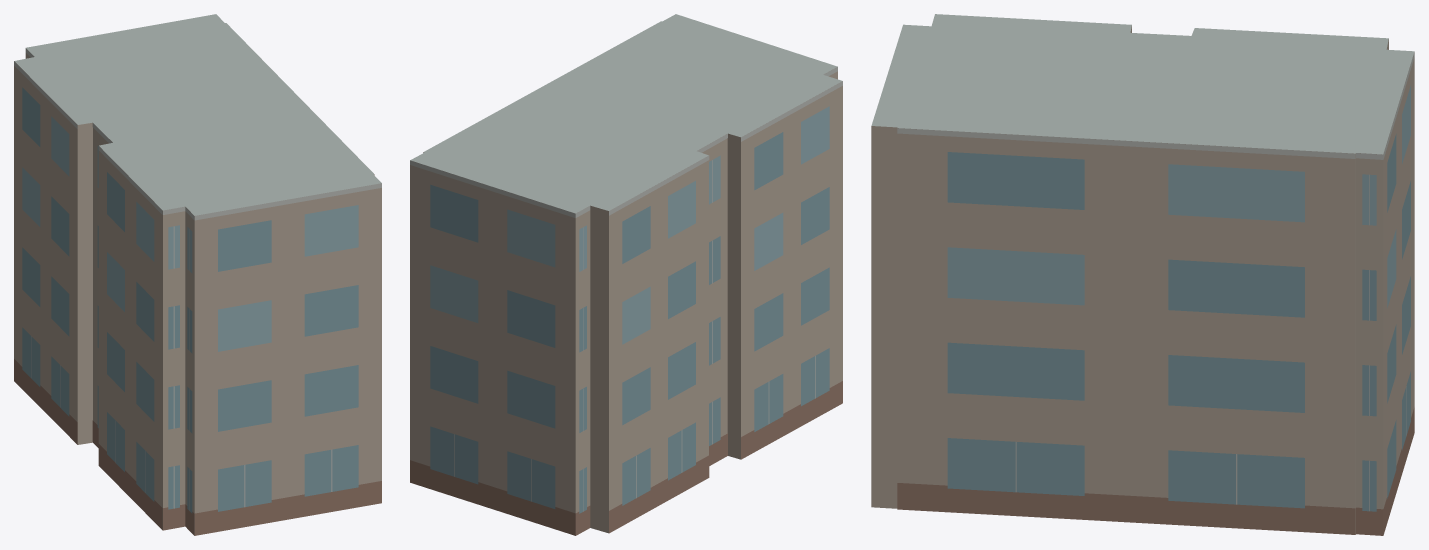
The model's file is survey-upis-32655989.glb.
The picture shows the model from 3 angles, left to right: view 1: azimuth 30°, elevation 25°; view 2: azimuth 150°, elevation 25°; view 3: azimuth 270°, elevation 25°; orthographic projection. The views are drawn at different scales.
Visible parts, largest first — view 1: survey-upis-32655989.tmp; view 2: survey-upis-32655989.tmp; view 3: survey-upis-32655989.tmp.
Part boxes in pixels (x1,y1,x2,y2): survey-upis-32655989.tmp: (14, 14, 381, 535); survey-upis-32655989.tmp: (410, 14, 842, 535); survey-upis-32655989.tmp: (871, 14, 1414, 535).
Bounding box in the file's own units: 13.44 × 17 × 21.96.
